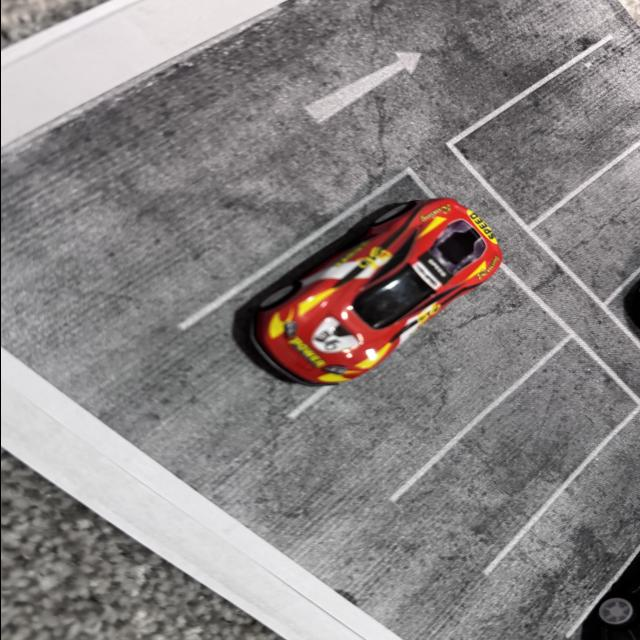Car: (249, 194, 562, 403)
